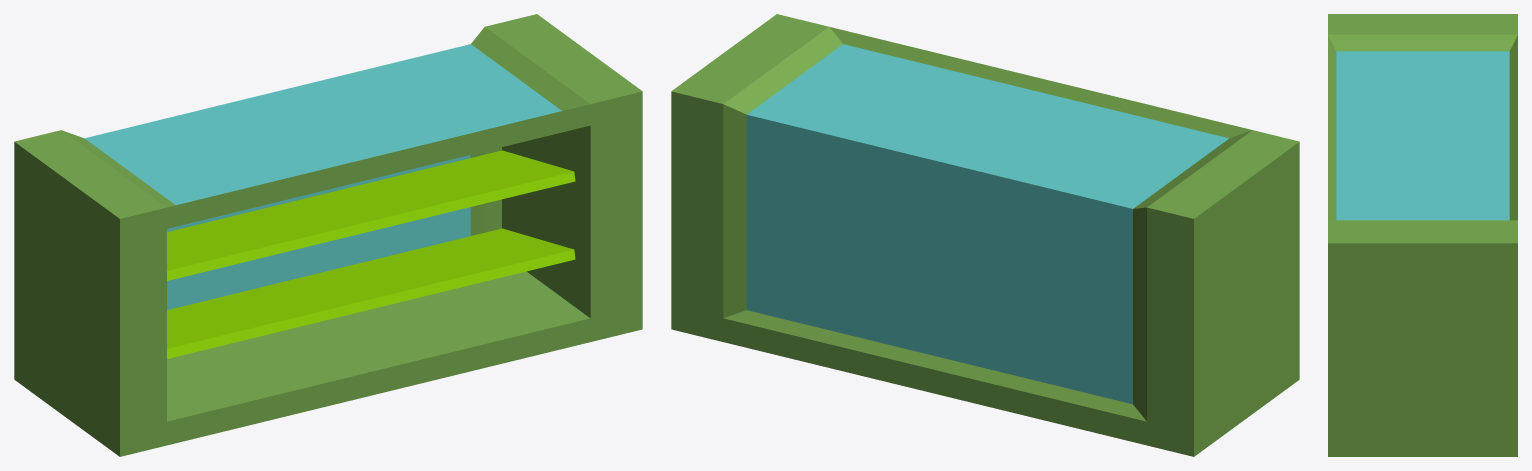
File: Display case_1.fbx
3 renders of one model, left to right at view 1: azimuth 30°, elevation 25°; view 2: azimuth 150°, elevation 25°; view 3: azimuth 270°, elevation 25°, orthographic. The views are drawn at different scales.
Parts seen in each view (by area): view 1: glass_display_table, pasted__pasted__pasted__pCube10, pasted__pasted__pCube10; view 2: glass_display_table; view 3: glass_display_table.
Boxes of the visible parts, x1=… form: glass_display_table: x1=14, y1=14, x2=642, y2=456; pasted__pasted__pasted__pCube10: x1=167, y1=228, x2=575, y2=358; pasted__pasted__pCube10: x1=167, y1=150, x2=575, y2=280; glass_display_table: x1=671, y1=14, x2=1299, y2=456; glass_display_table: x1=1328, y1=14, x2=1517, y2=456.
Size of the model in its own units: 2.85 by 1.24 by 1.
